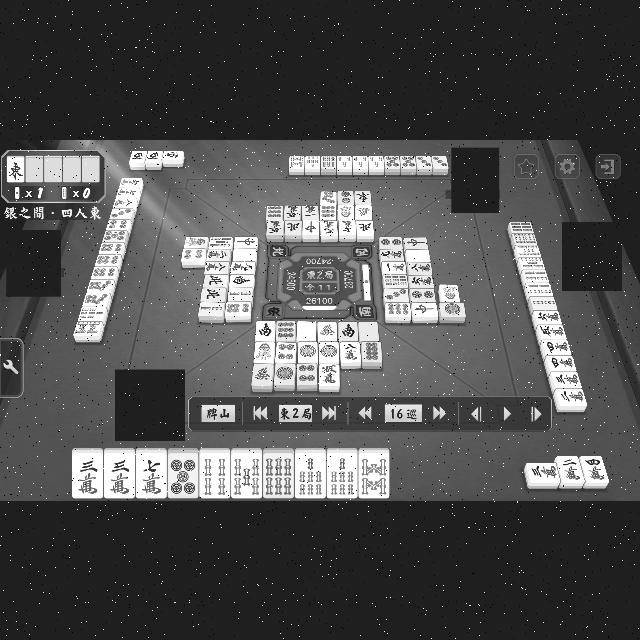1m: (379, 259, 406, 275), (302, 204, 320, 220)
1p: (438, 302, 466, 322), (274, 364, 294, 384), (299, 341, 317, 361), (321, 342, 339, 362)
1s: (256, 340, 274, 362), (439, 283, 459, 301), (185, 234, 208, 248), (337, 205, 353, 219)
2m: (552, 388, 588, 408), (558, 456, 584, 482), (207, 248, 230, 260)
2p: (378, 235, 404, 249), (410, 288, 434, 300), (337, 190, 353, 206)
2s: (200, 301, 226, 319), (528, 295, 558, 309), (228, 284, 254, 300)
3m: (104, 452, 134, 498), (74, 453, 100, 497), (526, 462, 560, 482), (549, 372, 583, 388)
3p: (296, 362, 318, 383), (381, 286, 409, 302), (278, 342, 296, 361), (433, 152, 447, 174), (416, 154, 432, 173), (111, 206, 133, 218)
3s: (338, 154, 352, 176), (354, 154, 368, 176), (370, 153, 384, 175)
4m: (581, 456, 609, 482), (539, 338, 573, 356), (544, 356, 576, 370)
4p: (182, 247, 205, 265), (108, 217, 134, 231)
4s: (201, 452, 229, 496), (520, 268, 548, 282), (522, 282, 554, 294)
5m: (536, 322, 568, 340), (322, 364, 338, 384), (268, 218, 284, 238), (284, 204, 300, 220)
5p: (170, 452, 198, 498), (385, 152, 401, 175), (104, 228, 128, 242), (402, 153, 416, 174)
5s: (233, 452, 263, 498), (208, 234, 232, 248), (515, 245, 541, 257), (519, 257, 545, 269)
6m: (532, 308, 562, 324), (406, 272, 432, 288), (120, 176, 144, 187)
6p: (225, 298, 252, 320), (96, 253, 122, 267), (92, 266, 118, 280), (100, 242, 126, 254)
6s: (264, 454, 292, 496), (320, 153, 338, 175), (506, 220, 534, 232), (511, 234, 537, 244)
7m: (137, 454, 165, 496), (337, 218, 355, 240), (115, 187, 141, 199)
7p: (88, 278, 116, 292), (84, 292, 112, 306), (321, 190, 335, 204)
7s: (296, 452, 326, 498), (328, 452, 357, 498), (79, 306, 111, 322), (305, 153, 321, 175)
8m: (406, 261, 434, 275), (341, 342, 359, 361), (113, 196, 139, 208), (206, 261, 230, 273)
8p: (364, 341, 381, 362)
8s: (74, 318, 104, 336), (289, 155, 305, 175)
9m: (318, 219, 338, 241), (230, 260, 256, 274), (378, 248, 404, 262)
9p: (382, 302, 410, 320), (278, 320, 296, 340), (319, 203, 336, 221), (266, 204, 284, 220)
9s: (381, 273, 407, 287)
chun: (232, 234, 258, 250), (412, 301, 438, 317), (302, 220, 320, 242), (404, 235, 428, 249)
haku: (402, 248, 432, 262), (359, 321, 378, 341), (231, 247, 257, 261), (298, 320, 316, 340)
hatsu: (252, 364, 272, 384), (318, 321, 336, 341), (356, 204, 372, 220)
nan: (359, 453, 389, 497), (230, 273, 256, 287), (339, 321, 357, 341), (257, 319, 273, 339)
pe: (202, 271, 230, 287), (201, 287, 227, 301), (284, 220, 302, 240), (356, 220, 374, 240)
sha: (146, 148, 162, 170), (163, 148, 183, 164), (132, 150, 146, 168)
tou: (6, 155, 24, 183), (356, 189, 370, 205)
